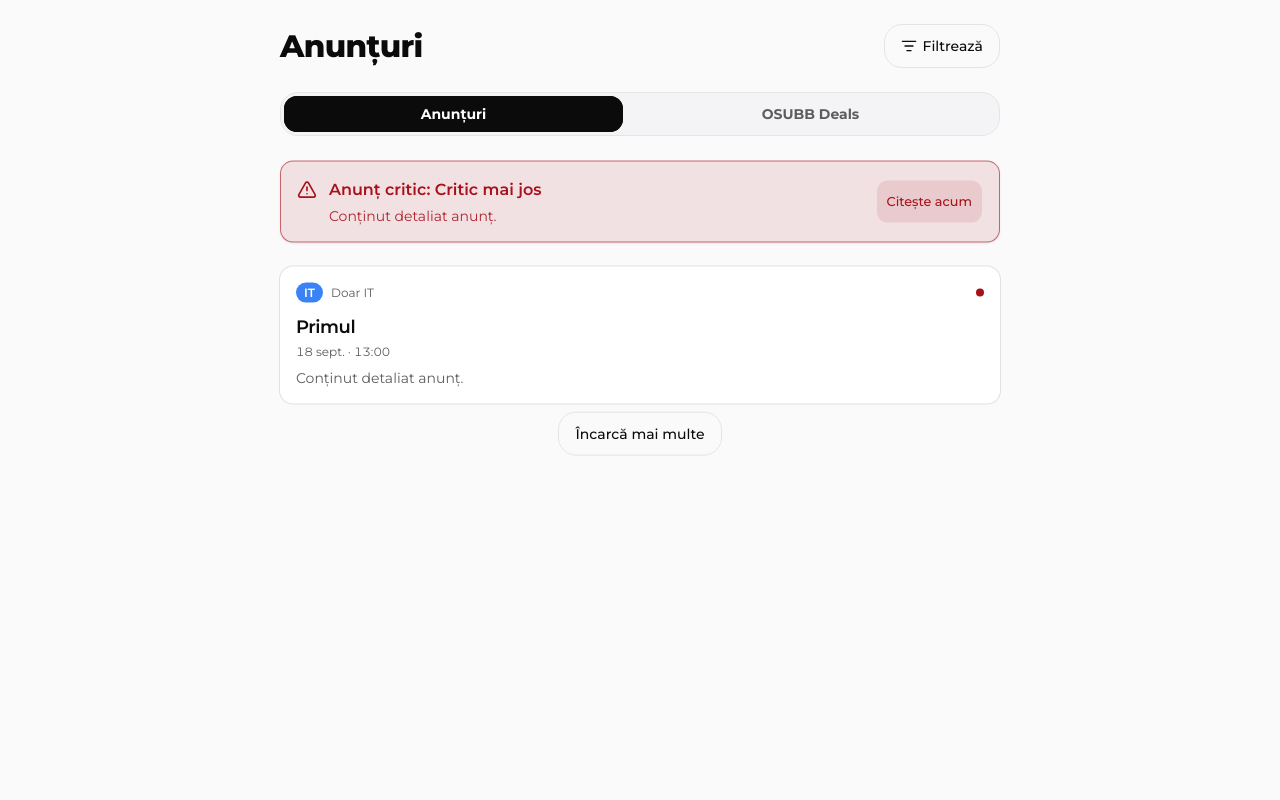
Test: AnnouncementsScreen › the critical banner › reads one further down by its id, and opens it from there
Expected: the text "Anunț critic: Critic mai jos" is shown, x1=329 y1=177 x2=542 y2=201
Click the button "Citește acum" at point(929, 201), box x1=876 y1=179 x2=983 y2=223
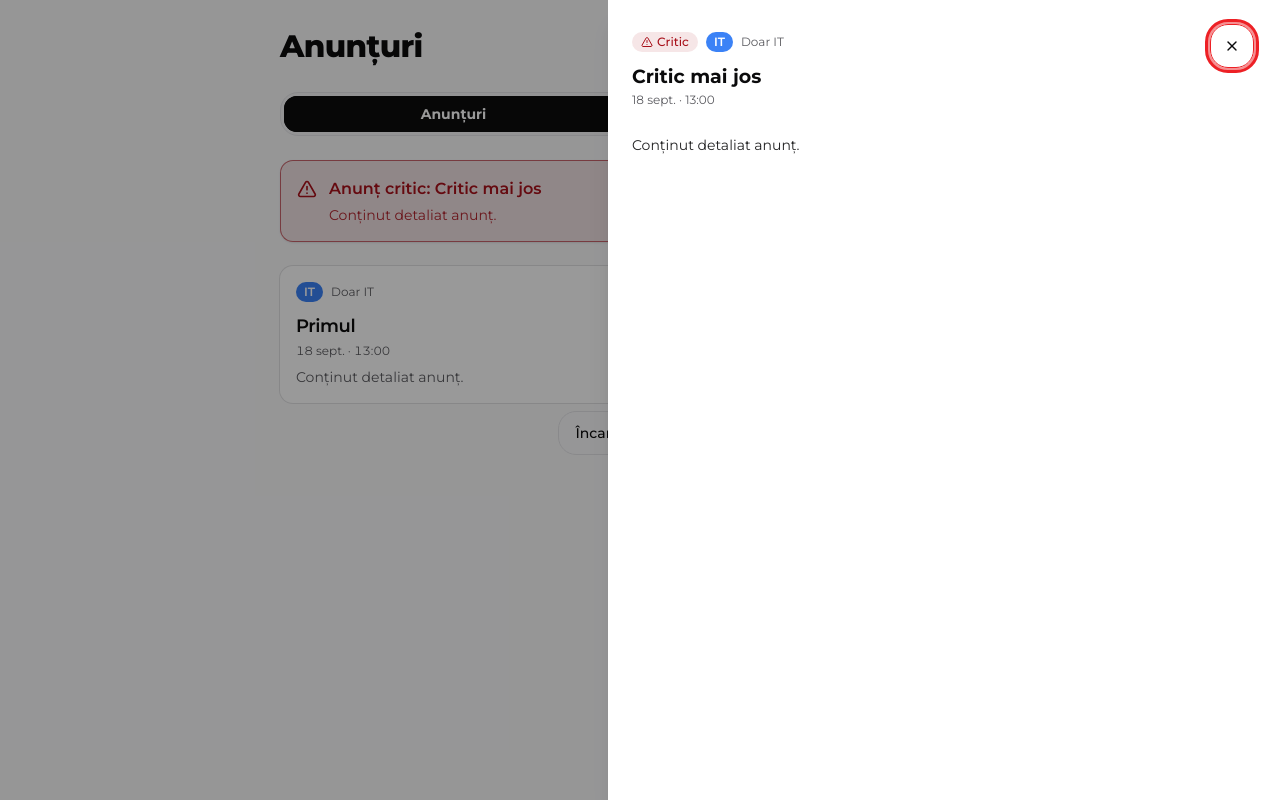
Expected: the dialog "Critic mai jos" is shown, x1=608 y1=0 x2=1279 y2=799
